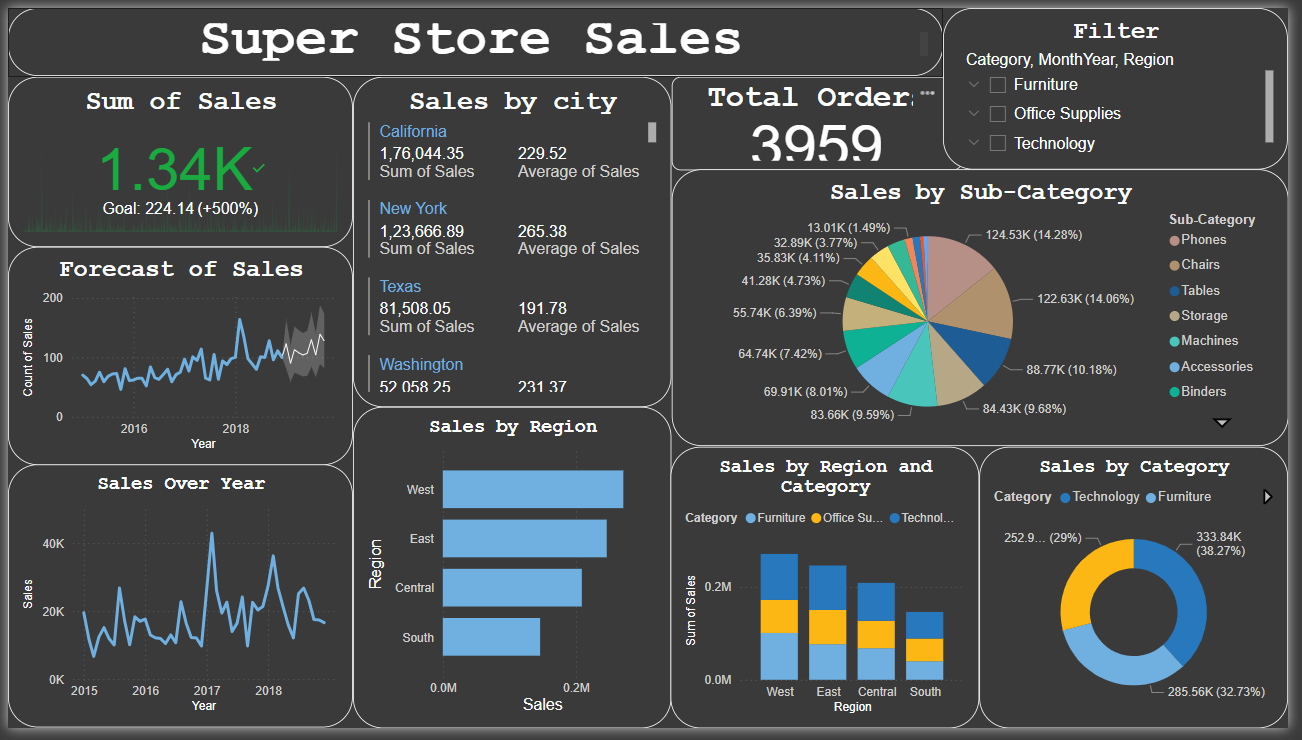

The page's visual inventory and layout, read from the dashboard file:
{"tool":"powerbi","page":{"name":"Page 1","canvas":[1280,720],"ordinal":0},"visuals":[{"type":"lineChart","title":"Sales Over Year","fields":{"Y":["Sum(Cleaned_Superstore_Sales.Sales)"],"Category":["Cleaned_Superstore_Sales.Month-Year.Variation.Date Hierarchy.Year","Cleaned_Superstore_Sales.Month-Year.Variation.Date Hierarchy.Quarter","Cleaned_Superstore_Sales.Month-Year.Variation.Date Hierarchy.Month","Cleaned_Superstore_Sales.Month-Year.Variation.Date Hierarchy.Day"]},"box":[0,398.3,345,321.7],"z":0},{"type":"barChart","title":"Sales by Region","fields":{"Category":["Cleaned_Superstore_Sales.Region"],"Y":["Sum(Cleaned_Superstore_Sales.Sales)"]},"box":[345,398.3,318.3,321.7],"z":1000},{"type":"donutChart","title":"Sales by Category","fields":{"Category":["Cleaned_Superstore_Sales.Category"],"Y":["Sum(Cleaned_Superstore_Sales.Sales)"]},"box":[971.4,438.6,308.6,281.4],"z":2000},{"type":"card","title":"Total Orders","fields":{"Values":["CountNonNull(Cleaned_Superstore_Sales.Order ID)"]},"box":[663.3,0,290,161.7],"z":3000},{"type":"columnChart","title":"Sales by Region and Category","fields":{"Category":["Cleaned_Superstore_Sales.Region"],"Series":["Cleaned_Superstore_Sales.Category"],"Y":["Sum(Cleaned_Superstore_Sales.Sales)"]},"box":[662.9,438.6,308.6,281.4],"z":4000},{"type":"kpi","title":"Sum of Sales","fields":{"Indicator":["Sum(Cleaned_Superstore_Sales.Sales)"],"TrendLine":["Cleaned_Superstore_Sales.Order ID"],"Goal":["Avg(Cleaned_Superstore_Sales.Sales)"]},"box":[0,0,345,180],"z":5000},{"type":"pieChart","title":"Sales by Sub-Category","fields":{"Category":["Cleaned_Superstore_Sales.Sub-Category"],"Y":["Sum(Cleaned_Superstore_Sales.Sales)"]},"box":[663.3,161.7,616.7,276.7],"z":6000},{"type":"slicer","title":"Filter","fields":{"Values":["Cleaned_Superstore_Sales.Category","Cleaned_Superstore_Sales.MonthYear","Cleaned_Superstore_Sales.Region"]},"box":[935,0,345,161.7],"z":7000},{"type":"multiRowCard","title":"Sales by city","fields":{"Values":["Sum(Cleaned_Superstore_Sales.Sales)","Cleaned_Superstore_Sales.State","Avg(Cleaned_Superstore_Sales.Sales)"]},"box":[345,0,318.3,398.3],"z":8000},{"type":"lineChart","title":"Forecast of Sales","fields":{"Y":["CountNonNull(Cleaned_Superstore_Sales.Sales)"],"Category":["Cleaned_Superstore_Sales.Month-Year.Variation.Date Hierarchy.Year","Cleaned_Superstore_Sales.Month-Year.Variation.Date Hierarchy.Quarter","Cleaned_Superstore_Sales.Month-Year.Variation.Date Hierarchy.Month","Cleaned_Superstore_Sales.Month-Year.Variation.Date Hierarchy.Day"]},"box":[0,180,345,218.3],"z":8001}]}

Visuals, with their boxes in screenshot pixels (x1, y1, x2, y2), scaled from the page's 1280x720 canvas onto the 1302x740 screenshot:
"Sales Over Year" lineChart: (left=0, top=409, right=351, bottom=739)
"Sales by Region" barChart: (left=351, top=409, right=675, bottom=739)
"Sales by Category" donutChart: (left=988, top=451, right=1301, bottom=739)
"Total Orders" card: (left=675, top=0, right=970, bottom=166)
"Sales by Region and Category" columnChart: (left=674, top=451, right=988, bottom=739)
"Sum of Sales" kpi: (left=0, top=0, right=351, bottom=185)
"Sales by Sub-Category" pieChart: (left=675, top=166, right=1301, bottom=451)
"Filter" slicer: (left=951, top=0, right=1301, bottom=166)
"Sales by city" multiRowCard: (left=351, top=0, right=675, bottom=409)
"Forecast of Sales" lineChart: (left=0, top=185, right=351, bottom=409)
